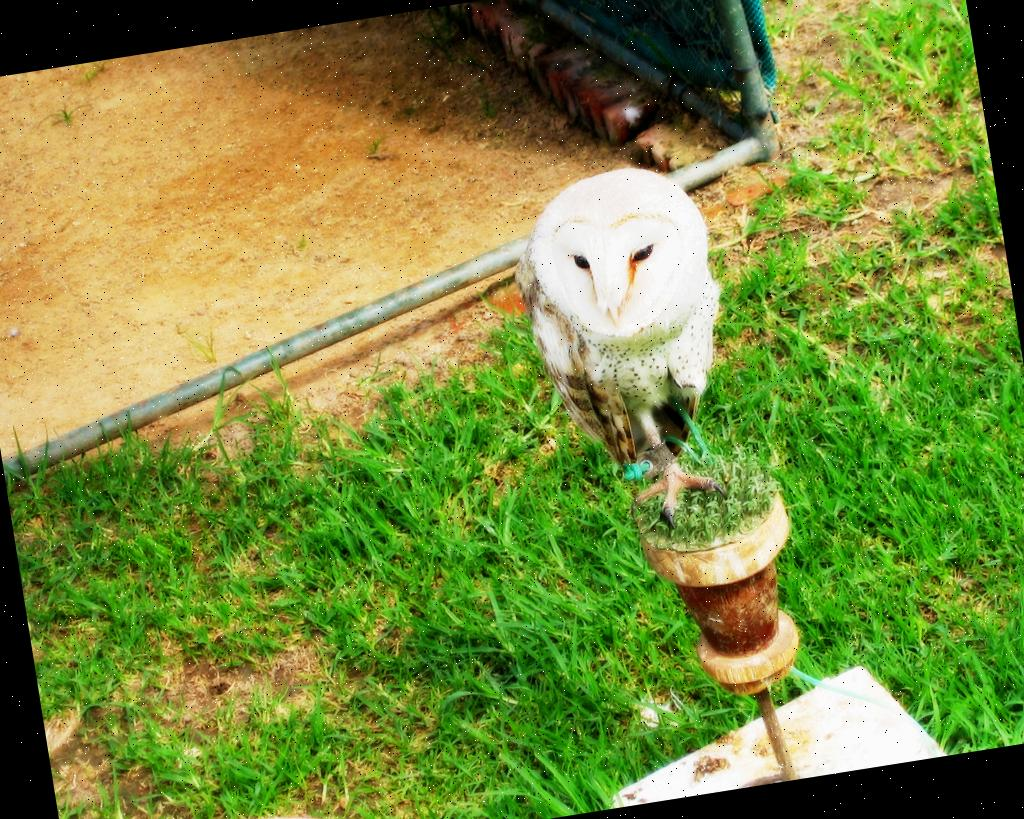Owl: (492, 156, 762, 535)
